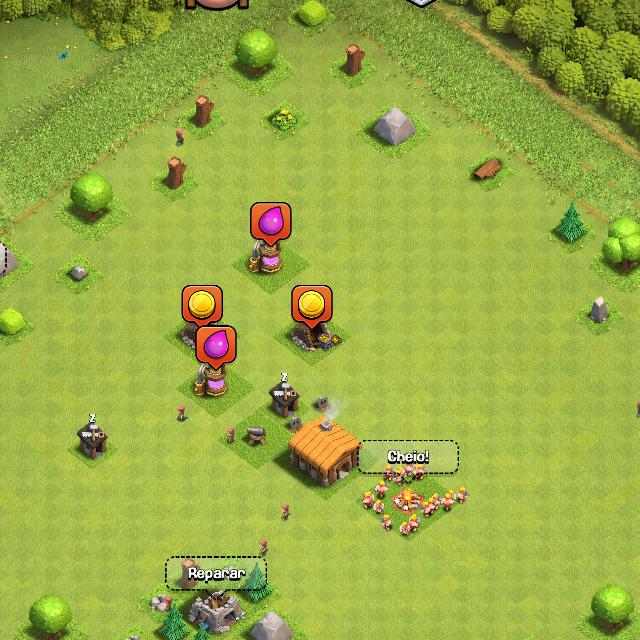Canhao: (245, 423, 268, 448)
FullCoin: (292, 285, 332, 330), (183, 286, 222, 328)
FullElixir: (197, 326, 237, 372), (252, 202, 291, 247)
